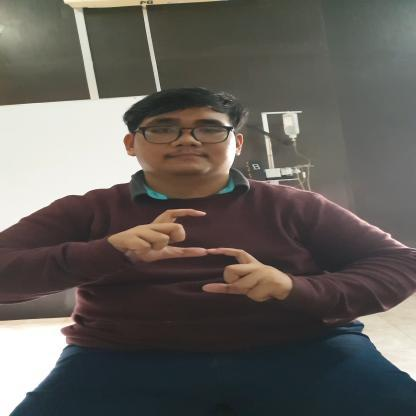S: (124, 208, 287, 306)
